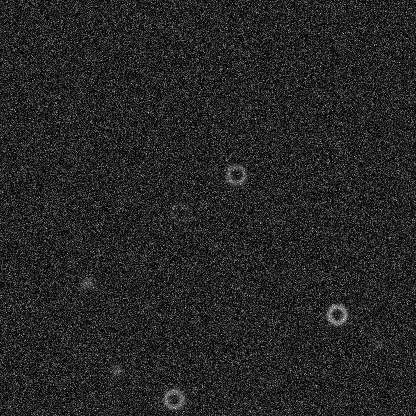Ring: (224, 162, 248, 186), (324, 302, 348, 326), (161, 387, 185, 411), (168, 200, 192, 224)
Spot: (79, 275, 95, 291), (248, 80, 264, 96), (370, 335, 386, 351), (107, 363, 123, 379), (115, 190, 131, 206)
